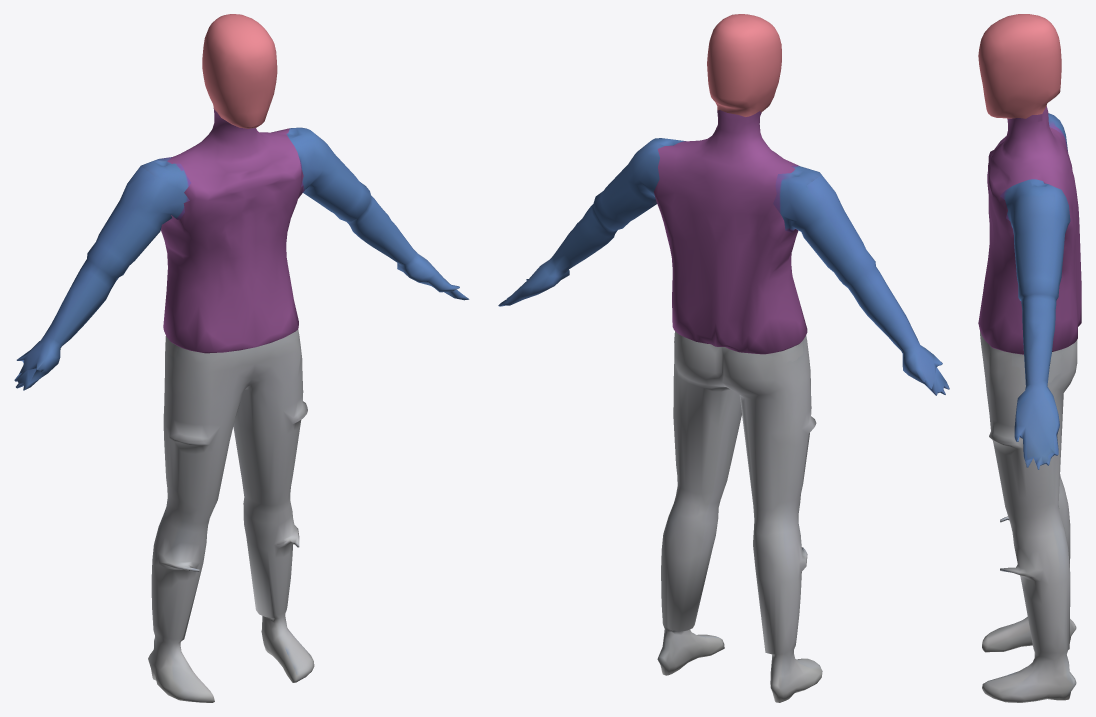
The picture shows the model from 3 angles, left to right: view 1: azimuth 30°, elevation 25°; view 2: azimuth 150°, elevation 25°; view 3: azimuth 270°, elevation 25°; orthographic projection.
Visible parts, largest first — view 1: material.001, material.004, material.002, material.003; view 2: material.001, material.004, material.002, material.003; view 3: material.001, material.004, material.002, material.003.
Boxes of the visible parts, x1=… form: material.001: x1=148, y1=329, x2=314, y2=702; material.004: x1=161, y1=108, x2=303, y2=353; material.002: x1=14, y1=127, x2=469, y2=390; material.003: x1=202, y1=14, x2=277, y2=128; material.001: x1=657, y1=331, x2=822, y2=702; material.004: x1=654, y1=110, x2=807, y2=354; material.002: x1=498, y1=138, x2=949, y2=395; material.003: x1=707, y1=14, x2=781, y2=116; material.001: x1=980, y1=331, x2=1077, y2=702; material.004: x1=978, y1=106, x2=1081, y2=354; material.002: x1=1000, y1=113, x2=1070, y2=469; material.003: x1=978, y1=14, x2=1061, y2=118.
Size of the model in its own units: 1.36 by 1.9 by 0.2714.
Materials: 3 (1 with a texture image).
